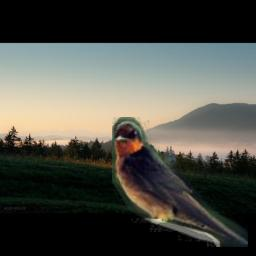Swallow: (112, 117, 248, 247)
